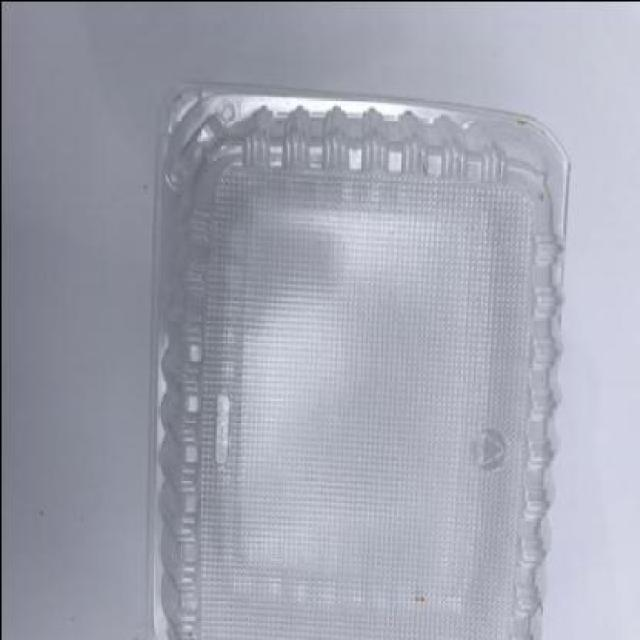PLASTIC: (144, 86, 574, 639)
